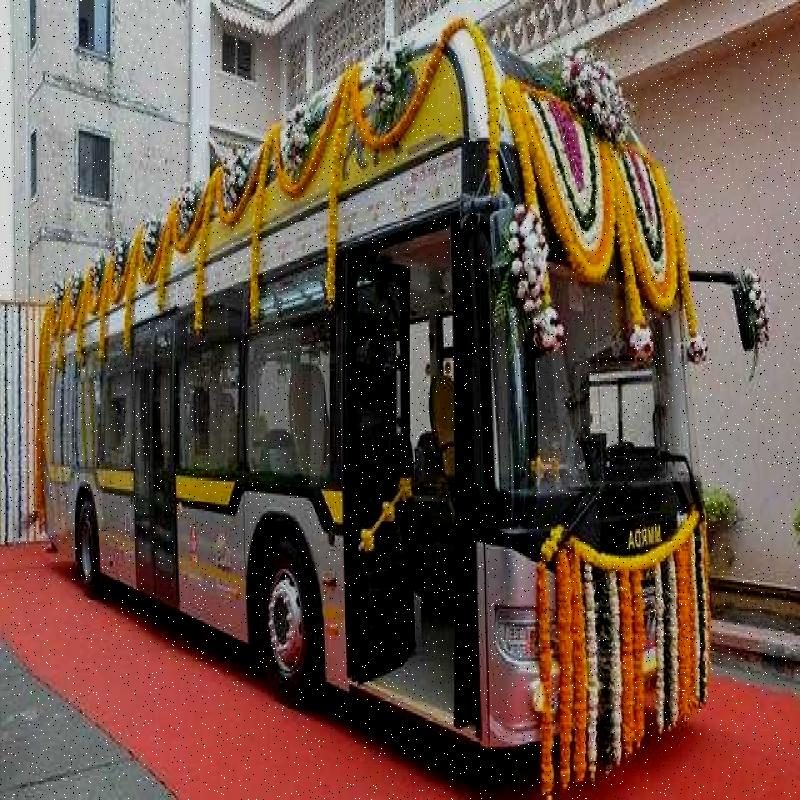bus: (2, 29, 713, 746)
